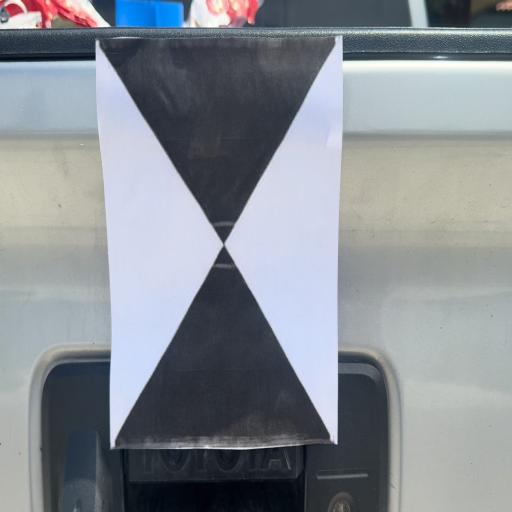target: (96, 40, 338, 446)
